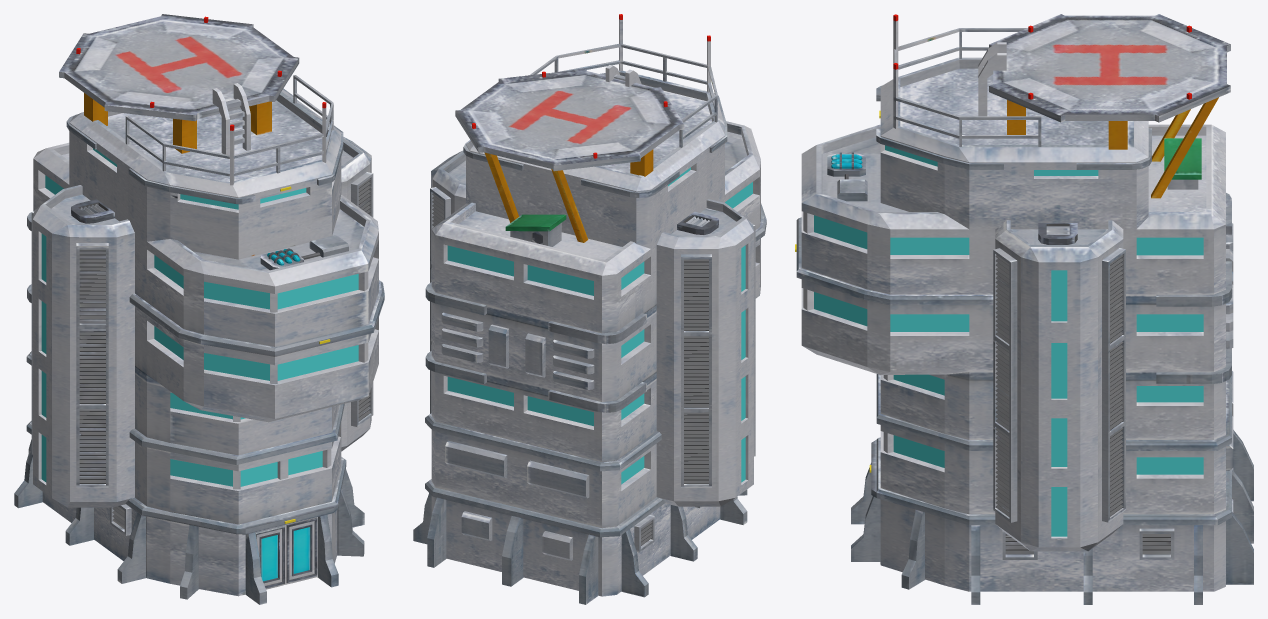
File: EdificioValle2.obj
The picture shows the model from 3 angles, left to right: view 1: azimuth 30°, elevation 25°; view 2: azimuth 150°, elevation 25°; view 3: azimuth 270°, elevation 25°; orthographic projection. The views are drawn at different scales.
Visible parts, largest first — view 1: Cube.060_Cube.111; view 2: Cube.060_Cube.111; view 3: Cube.060_Cube.111.
Part boxes in pixels (x1,y1,x2,y2): Cube.060_Cube.111: [14, 14, 384, 604]; Cube.060_Cube.111: [413, 14, 766, 604]; Cube.060_Cube.111: [795, 14, 1253, 604].
Bounding box in the file's own units: 3.8 × 5.3 × 4.39.
Materials: 2 (2 with a texture image).
